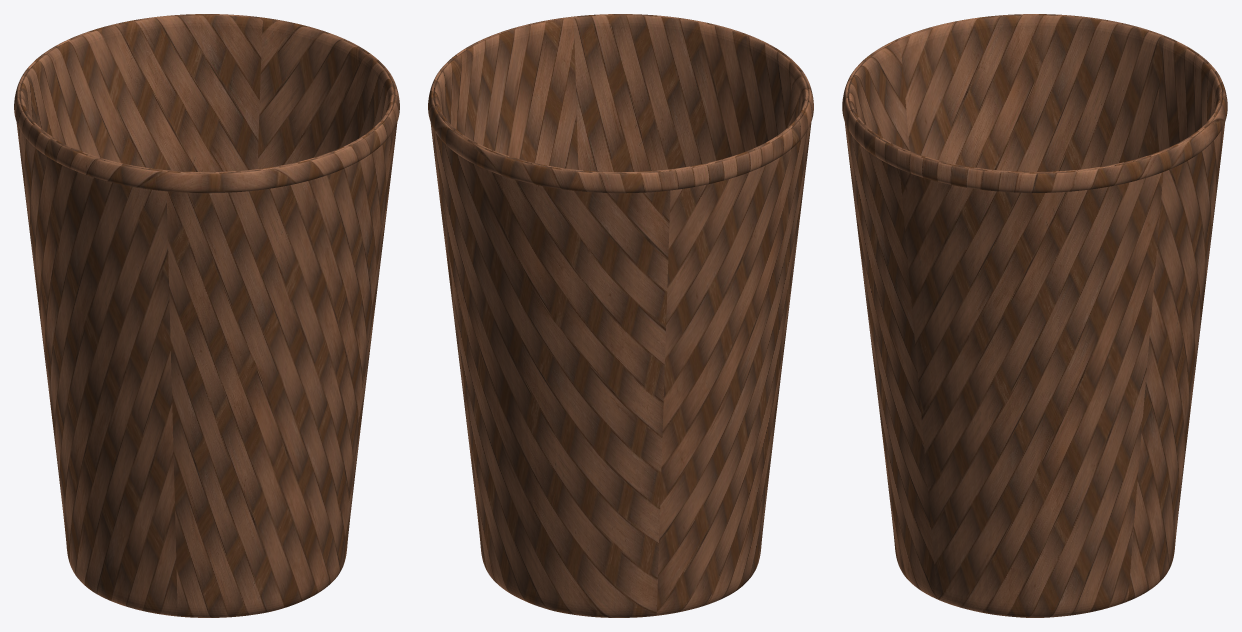
File: basket 3 open.fbx
3 renders of one model, left to right at view 1: azimuth 30°, elevation 25°; view 2: azimuth 150°, elevation 25°; view 3: azimuth 270°, elevation 25°, orthographic.
Visible parts, largest first — view 1: Cylinder.006; view 2: Cylinder.006; view 3: Cylinder.006.
Part boxes in pixels (left/top/right/bottom): Cylinder.006: left=14, top=14, right=399, bottom=617; Cylinder.006: left=428, top=14, right=813, bottom=617; Cylinder.006: left=842, top=14, right=1227, bottom=617.
Bounding box in the file's own units: 67.46 × 90.54 × 67.46.
1 material, 1 textured.
